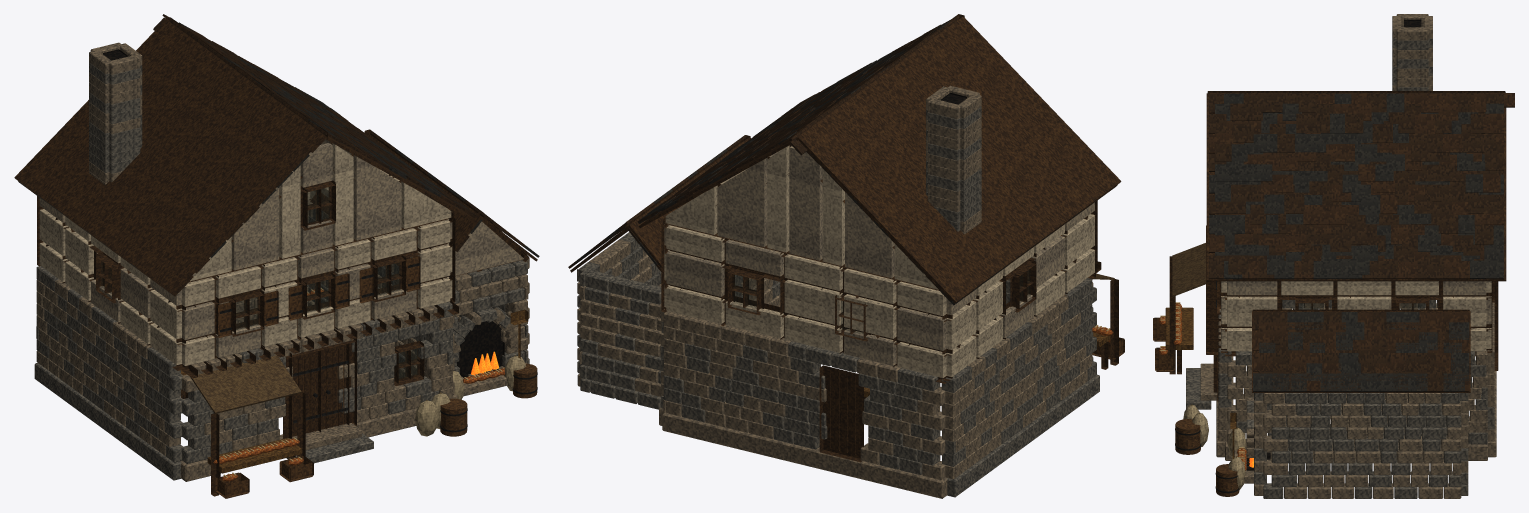
Rendered from medieval_bakery_house_3d_runtime.glb.
3 renders of one model, left to right at view 1: azimuth 30°, elevation 25°; view 2: azimuth 150°, elevation 25°; view 3: azimuth 270°, elevation 25°, orthographic. The views are drawn at different scales.
Visible parts, largest first — view 1: RUNTIME_BATCH_010_MAT_BAKERY_OAK_DARK, RUNTIME_BATCH_017_MAT_BAKERY_PLASTER_AGED, RUNTIME_BATCH_022_MAT_BAKERY_PLASTER_WORN, RUNTIME_BATCH_004_MAT_BAKERY_STONE_WARM, RUNTIME_BATCH_002_MAT_BAKERY_STONE_DARK, RUNTIME_BATCH_005_MAT_BAKERY_STONE_DARK, RUNTIME_BATCH_003_MAT_BAKERY_STONE_WARM, RUNTIME_BATCH_006_MAT_BAKERY_OAK_DARK, RUNTIME_BATCH_019_MAT_BAKERY_PLASTER_AGED, RUNTIME_BATCH_021_MAT_BAKERY_PLASTER_AGED, RUNTIME_BATCH_001_MAT_BAKERY_STONE_DARK, RUNTIME_BATCH_018_MAT_BAKERY_PLASTER_WORN (+30 smaller); view 2: RUNTIME_BATCH_010_MAT_BAKERY_OAK_DARK, RUNTIME_BATCH_004_MAT_BAKERY_STONE_WARM, RUNTIME_BATCH_019_MAT_BAKERY_PLASTER_AGED, RUNTIME_BATCH_005_MAT_BAKERY_STONE_DARK, RUNTIME_BATCH_000_MAT_BAKERY_STONE_WARM, RUNTIME_BATCH_001_MAT_BAKERY_STONE_DARK, RUNTIME_BATCH_022_MAT_BAKERY_PLASTER_WORN, RUNTIME_BATCH_020_MAT_BAKERY_PLASTER_WORN, RUNTIME_BATCH_021_MAT_BAKERY_PLASTER_AGED, RUNTIME_BATCH_015_MAT_BAKERY_STONE_WARM, RUNTIME_BATCH_030_MAT_BAKERY_SHINGLE_A, DOOR_BAKERY_REAR_PLANK_BODY (+7 smaller); view 3: RUNTIME_BATCH_030_MAT_BAKERY_SHINGLE_A, RUNTIME_BATCH_031_MAT_BAKERY_SHINGLE_C, RUNTIME_BATCH_029_MAT_BAKERY_SHINGLE_B, RUNTIME_BATCH_000_MAT_BAKERY_STONE_WARM, RUNTIME_BATCH_001_MAT_BAKERY_STONE_DARK, RUNTIME_BATCH_034_MAT_BAKERY_SHINGLE_C, RUNTIME_BATCH_035_MAT_BAKERY_SHINGLE_B, RUNTIME_BATCH_019_MAT_BAKERY_PLASTER_AGED, RUNTIME_BATCH_036_MAT_BAKERY_SHINGLE_A, RUNTIME_BATCH_004_MAT_BAKERY_STONE_WARM, RUNTIME_BATCH_010_MAT_BAKERY_OAK_DARK, RUNTIME_BATCH_015_MAT_BAKERY_STONE_WARM (+19 smaller).
Part boxes in pixels (bbox=[...]): RUNTIME_BATCH_010_MAT_BAKERY_OAK_DARK: bbox=[14, 17, 476, 294]; RUNTIME_BATCH_017_MAT_BAKERY_PLASTER_AGED: bbox=[182, 219, 450, 366]; RUNTIME_BATCH_022_MAT_BAKERY_PLASTER_WORN: bbox=[231, 143, 523, 275]; RUNTIME_BATCH_004_MAT_BAKERY_STONE_WARM: bbox=[36, 199, 454, 455]; RUNTIME_BATCH_002_MAT_BAKERY_STONE_DARK: bbox=[181, 302, 453, 463]; RUNTIME_BATCH_005_MAT_BAKERY_STONE_DARK: bbox=[36, 209, 426, 462]; RUNTIME_BATCH_003_MAT_BAKERY_STONE_WARM: bbox=[181, 305, 452, 451]; RUNTIME_BATCH_006_MAT_BAKERY_OAK_DARK: bbox=[177, 216, 458, 378]; RUNTIME_BATCH_019_MAT_BAKERY_PLASTER_AGED: bbox=[39, 147, 452, 364]; RUNTIME_BATCH_021_MAT_BAKERY_PLASTER_AGED: bbox=[190, 143, 451, 281]; RUNTIME_BATCH_001_MAT_BAKERY_STONE_DARK: bbox=[34, 210, 529, 480]; RUNTIME_BATCH_018_MAT_BAKERY_PLASTER_WORN: bbox=[182, 248, 416, 357]; RUNTIME_BATCH_010_MAT_BAKERY_OAK_DARK: bbox=[638, 14, 1121, 303]; RUNTIME_BATCH_004_MAT_BAKERY_STONE_WARM: bbox=[661, 281, 1092, 479]; RUNTIME_BATCH_019_MAT_BAKERY_PLASTER_AGED: bbox=[664, 150, 1094, 377]; RUNTIME_BATCH_005_MAT_BAKERY_STONE_DARK: bbox=[660, 278, 1096, 474]; RUNTIME_BATCH_000_MAT_BAKERY_STONE_WARM: bbox=[577, 239, 947, 498]; RUNTIME_BATCH_001_MAT_BAKERY_STONE_DARK: bbox=[577, 232, 1099, 497]; RUNTIME_BATCH_022_MAT_BAKERY_PLASTER_WORN: bbox=[717, 146, 894, 278]; RUNTIME_BATCH_020_MAT_BAKERY_PLASTER_WORN: bbox=[664, 202, 1094, 365]; RUNTIME_BATCH_021_MAT_BAKERY_PLASTER_AGED: bbox=[665, 145, 938, 289]; RUNTIME_BATCH_015_MAT_BAKERY_STONE_WARM: bbox=[926, 85, 981, 234]; RUNTIME_BATCH_030_MAT_BAKERY_SHINGLE_A: bbox=[638, 15, 1117, 300]; DOOR_BAKERY_REAR_PLANK_BODY: bbox=[819, 365, 863, 462]; RUNTIME_BATCH_030_MAT_BAKERY_SHINGLE_A: bbox=[1209, 93, 1503, 279]; RUNTIME_BATCH_031_MAT_BAKERY_SHINGLE_C: bbox=[1209, 93, 1503, 279]; RUNTIME_BATCH_029_MAT_BAKERY_SHINGLE_B: bbox=[1209, 93, 1514, 279]; RUNTIME_BATCH_000_MAT_BAKERY_STONE_WARM: bbox=[1216, 356, 1496, 498]; RUNTIME_BATCH_001_MAT_BAKERY_STONE_DARK: bbox=[1254, 393, 1468, 498]; RUNTIME_BATCH_034_MAT_BAKERY_SHINGLE_C: bbox=[1253, 312, 1469, 391]; RUNTIME_BATCH_035_MAT_BAKERY_SHINGLE_B: bbox=[1253, 312, 1469, 391]; RUNTIME_BATCH_019_MAT_BAKERY_PLASTER_AGED: bbox=[1227, 281, 1491, 351]; RUNTIME_BATCH_036_MAT_BAKERY_SHINGLE_A: bbox=[1253, 312, 1463, 391]; RUNTIME_BATCH_004_MAT_BAKERY_STONE_WARM: bbox=[1227, 300, 1494, 444]; RUNTIME_BATCH_010_MAT_BAKERY_OAK_DARK: bbox=[1206, 91, 1506, 281]; RUNTIME_BATCH_015_MAT_BAKERY_STONE_WARM: bbox=[1392, 14, 1432, 90].
Size of the model in its own units: 11.06 by 9.32 by 9.34.
Materials: 20 (20 with a texture image).
